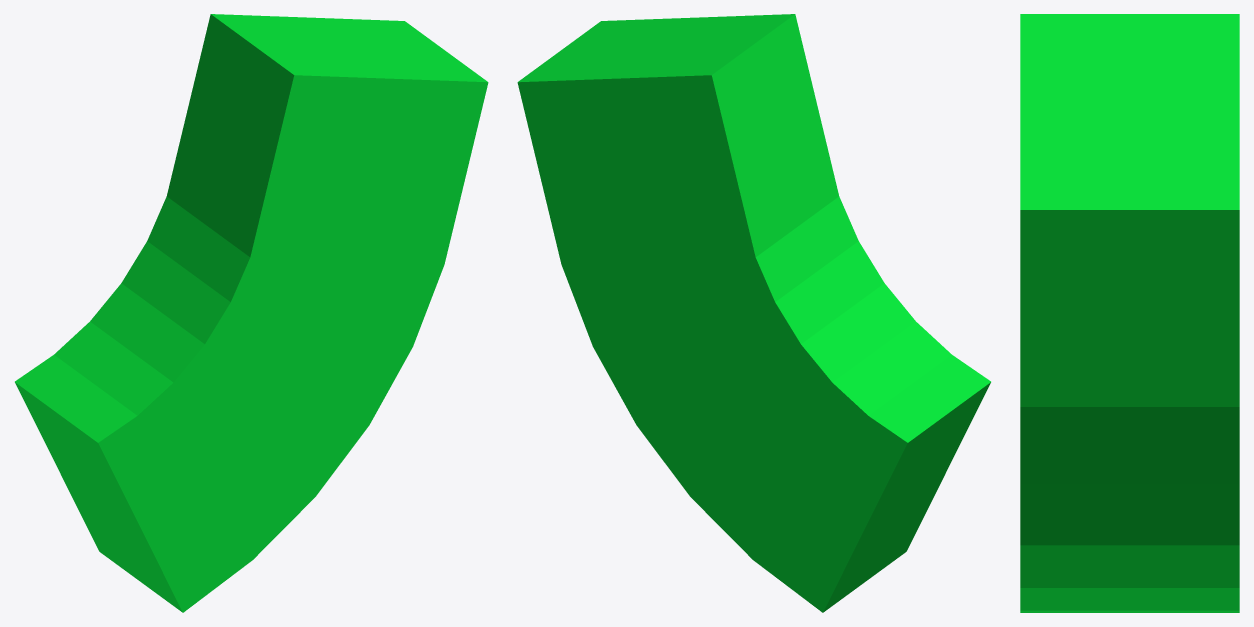
The model's file is ammoBox.fbx.
3 renders of one model, left to right at view 1: azimuth 30°, elevation 25°; view 2: azimuth 150°, elevation 25°; view 3: azimuth 270°, elevation 25°, orthographic. The views are drawn at different scales.
Parts seen in each view (by area): view 1: Ammo; view 2: Ammo; view 3: Ammo.
Part boxes in pixels (box(x1,y1,x2,y2)): Ammo: box(15, 14, 488, 612); Ammo: box(517, 14, 990, 612); Ammo: box(1020, 14, 1239, 612).
Size of the model in its own units: 97.07 by 121 by 36.
